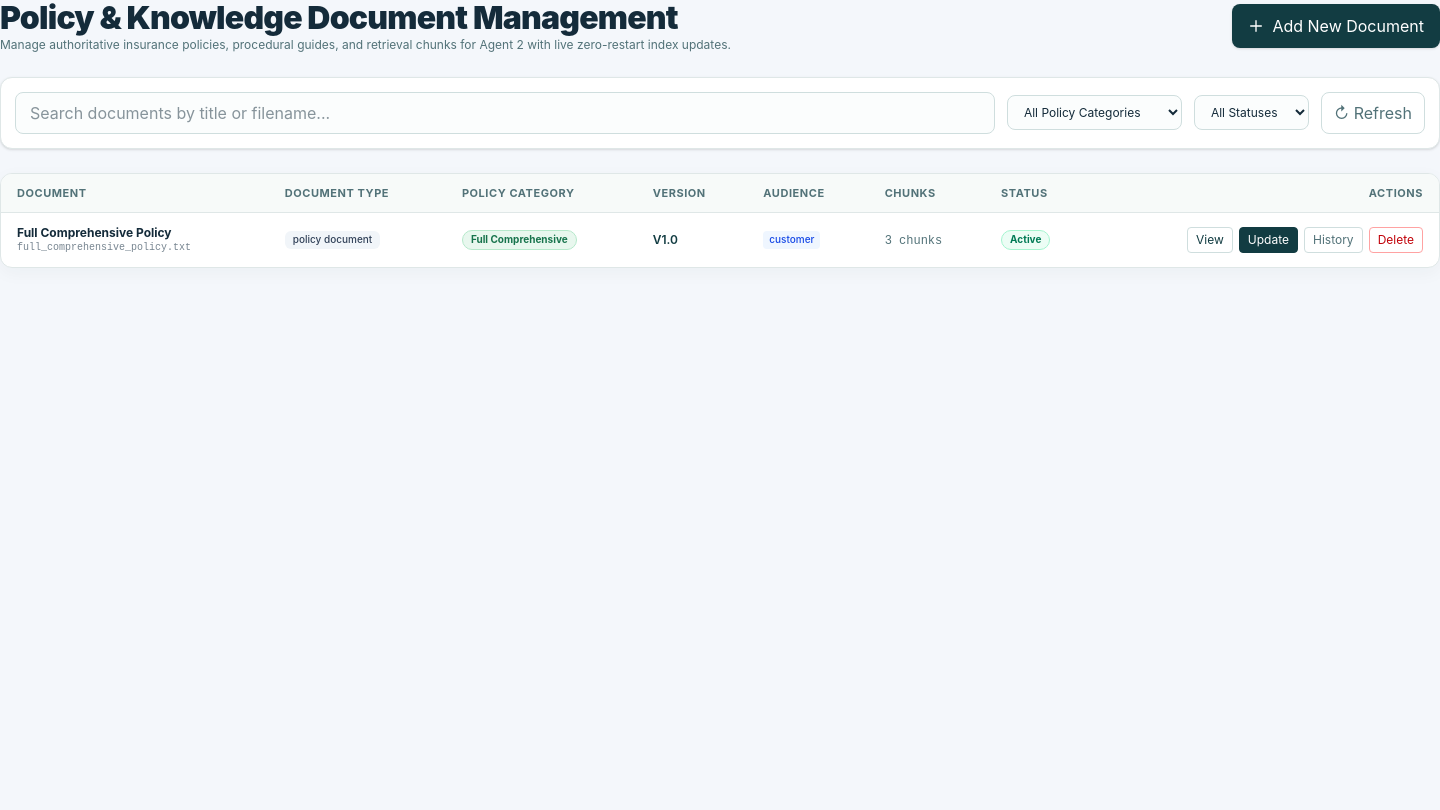
Test case: PolicyKnowledgeManagement delete policy › removes the policy only after backend confirmation
Expected: the text "Full Comprehensive Policy" is shown, x1=17 y1=226 x2=172 y2=240
Click the button "Delete" at (1396, 240), box x1=1369 y1=227 x2=1423 y2=253
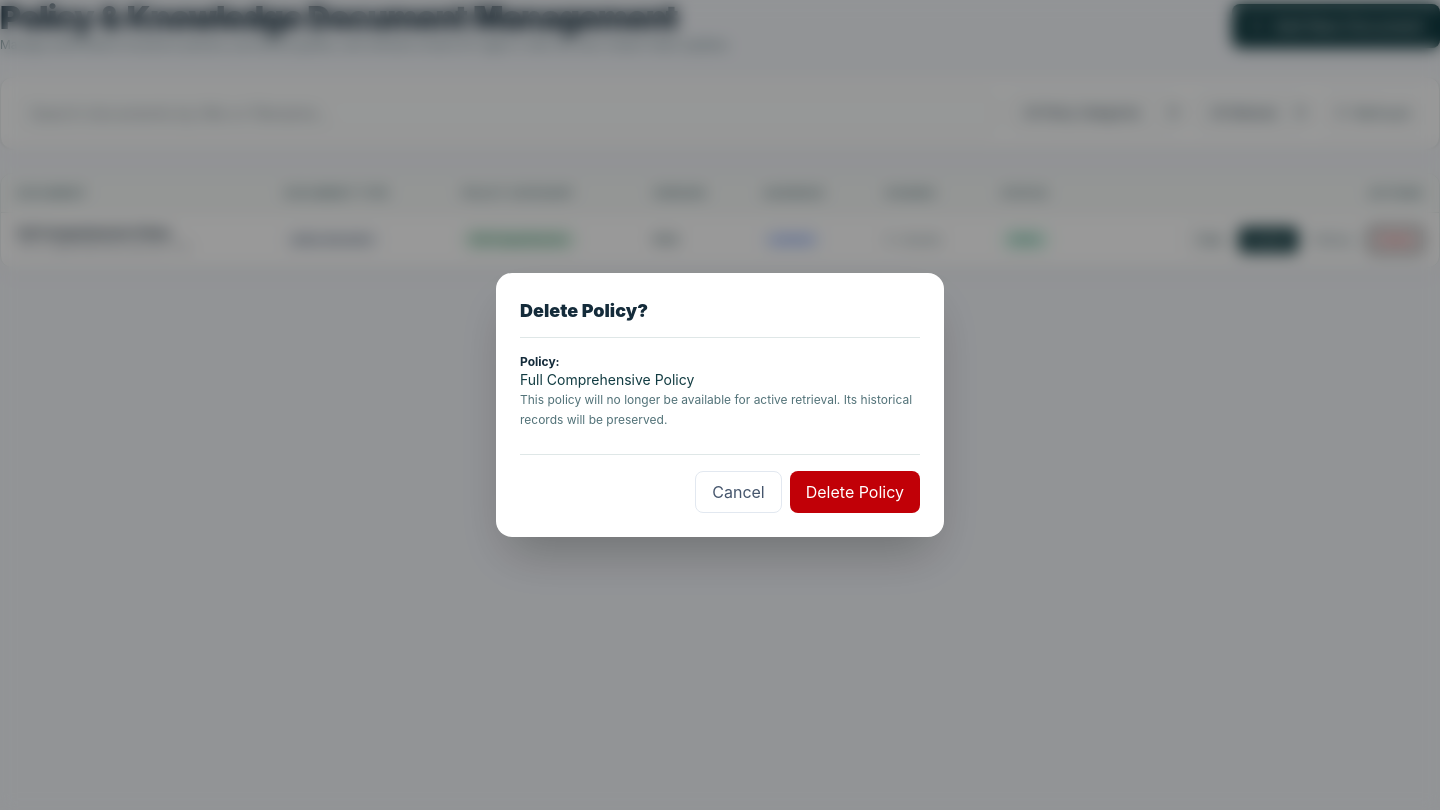
Click the button "Delete Policy" at (855, 492), box x1=790 y1=471 x2=920 y2=513
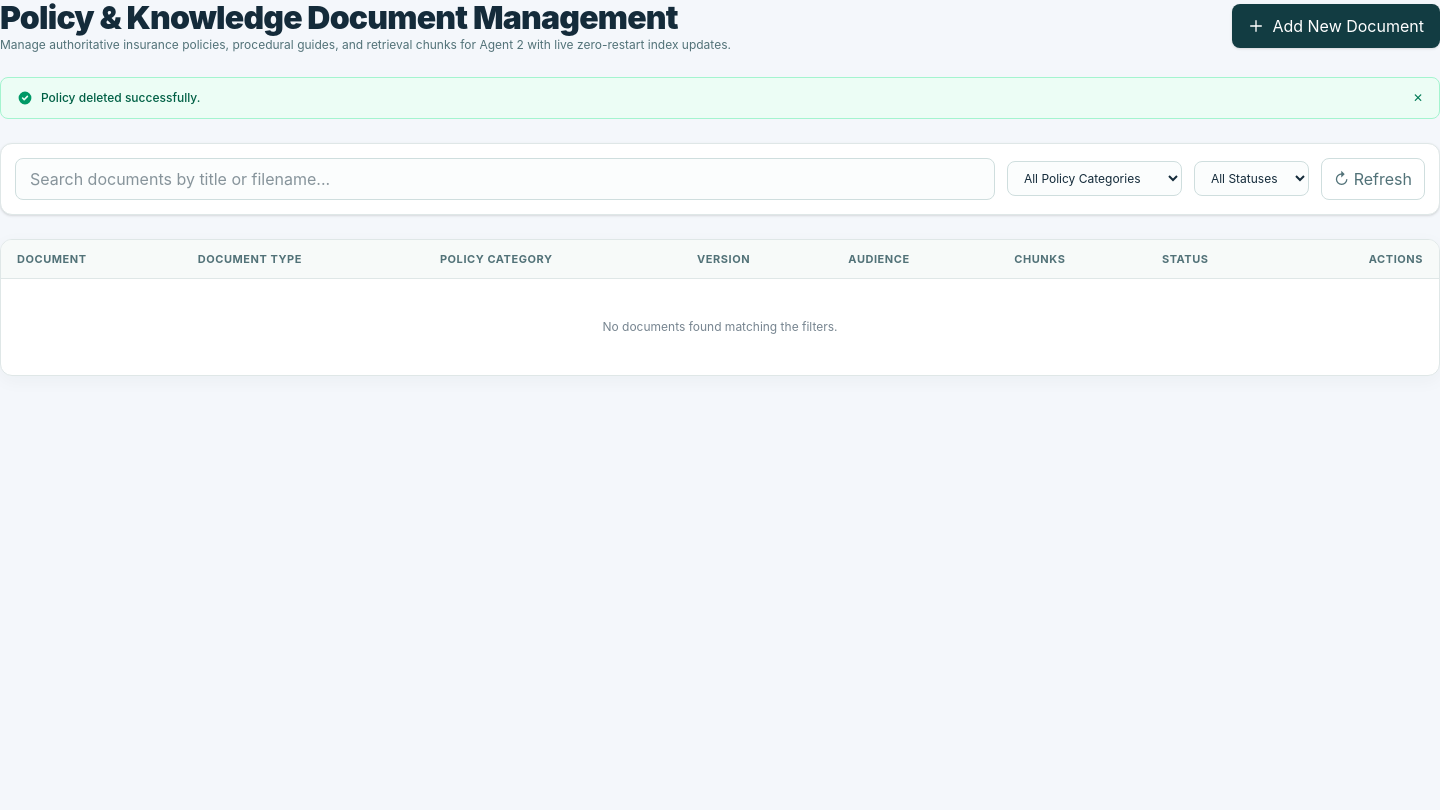
Expected: the text "Policy deleted successfully." is shown, x1=41 y1=90 x2=200 y2=106
Expected: the text "Full Comprehensive Policy" is gone
